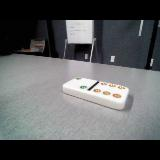domino: (63, 78, 128, 109)
